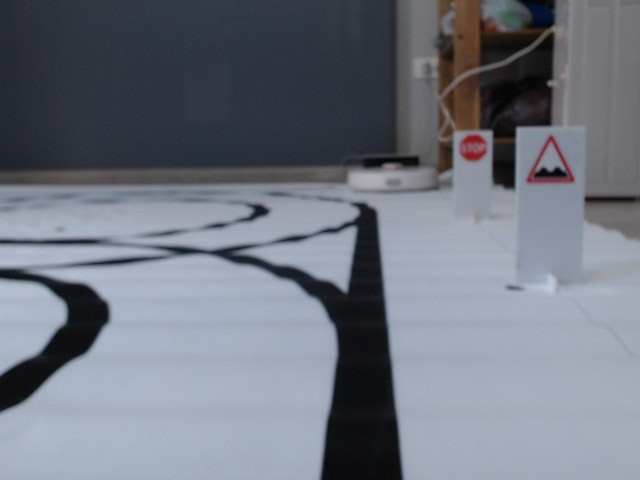Nerov: (525, 134, 577, 186)
Stop: (459, 134, 487, 161)
